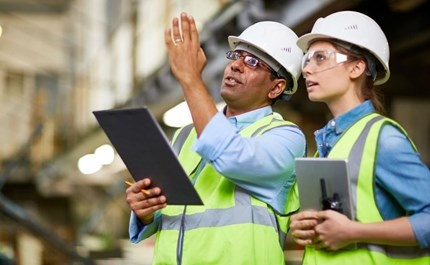helmet: (312, 12, 390, 79), (237, 26, 302, 92)
person with full safety: (150, 21, 294, 261), (293, 14, 429, 263)
safety vest: (155, 119, 287, 263), (296, 115, 416, 265)
